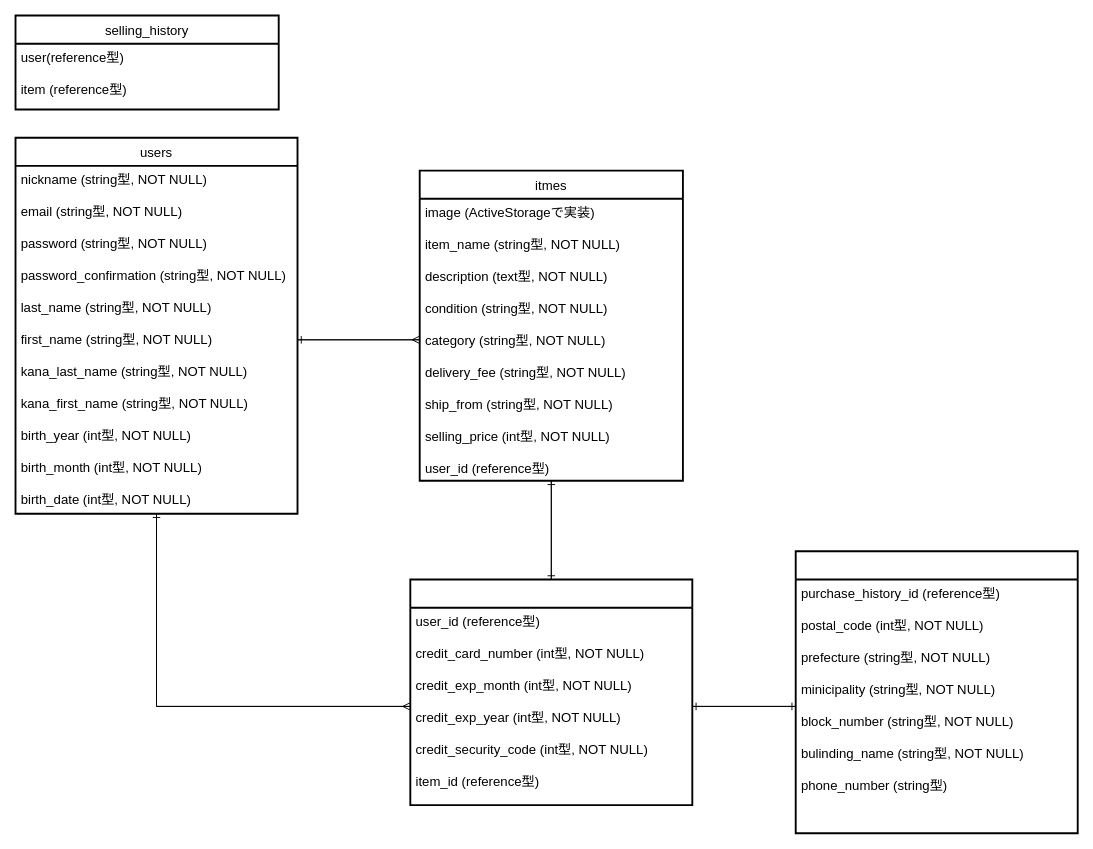
Image size: 1093x849. Some labels were removed from this diagram. The box of each missing label's shape, as (x1, y1, x2, y2) in pixels:
purchase_history: (409, 578, 693, 806)
shipping_address: (794, 550, 1078, 834)
